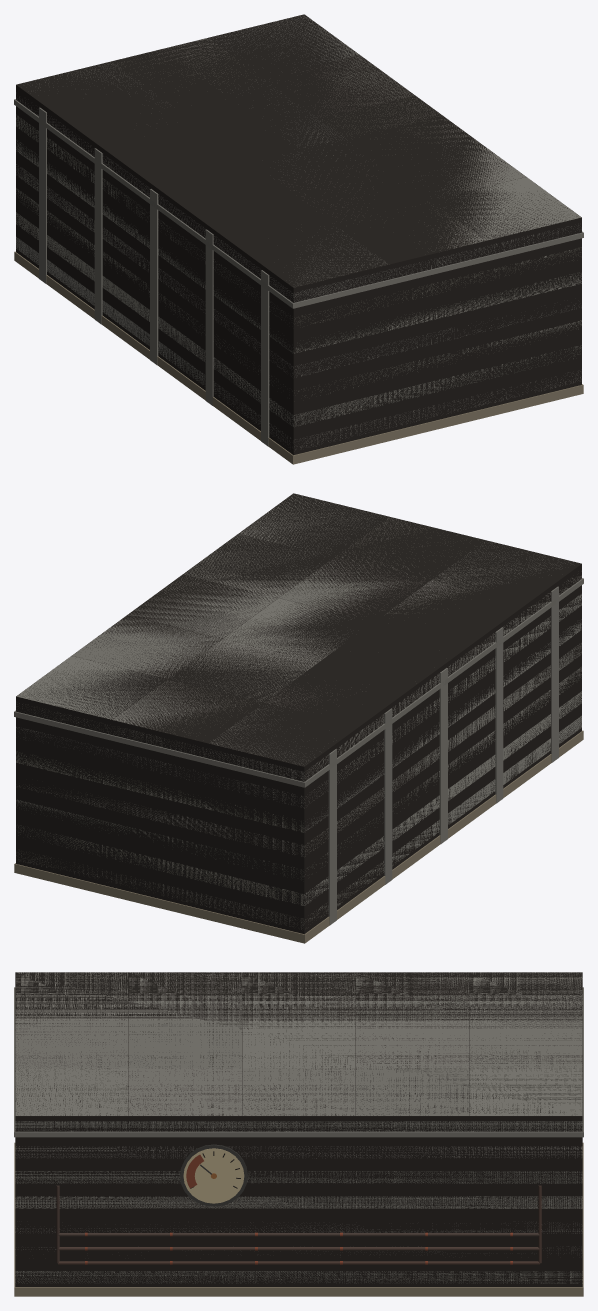
Rendered from annex_hall.glb.
The picture shows the model from 3 angles, top to bottom: view 1: azimuth 30°, elevation 25°; view 2: azimuth 150°, elevation 25°; view 3: azimuth 270°, elevation 25°; orthographic projection. The views are drawn at different scales.
Visible parts, largest first — view 1: annex_hall-col-col, annex_hall_body; view 2: annex_hall-col-col, annex_hall_body; view 3: annex_hall-col-col, annex_hall_body.
Boxes of the visible parts, x1,y1,x2,y2 form: annex_hall-col-col: (16,14,581,455); annex_hall_body: (14,14,583,464); annex_hall-col-col: (16,493,581,934); annex_hall_body: (14,494,583,943); annex_hall-col-col: (15,972,582,1286); annex_hall_body: (14,972,583,1296).
Bounding box in the file's own units: 24.25 × 14 × 40.2.
